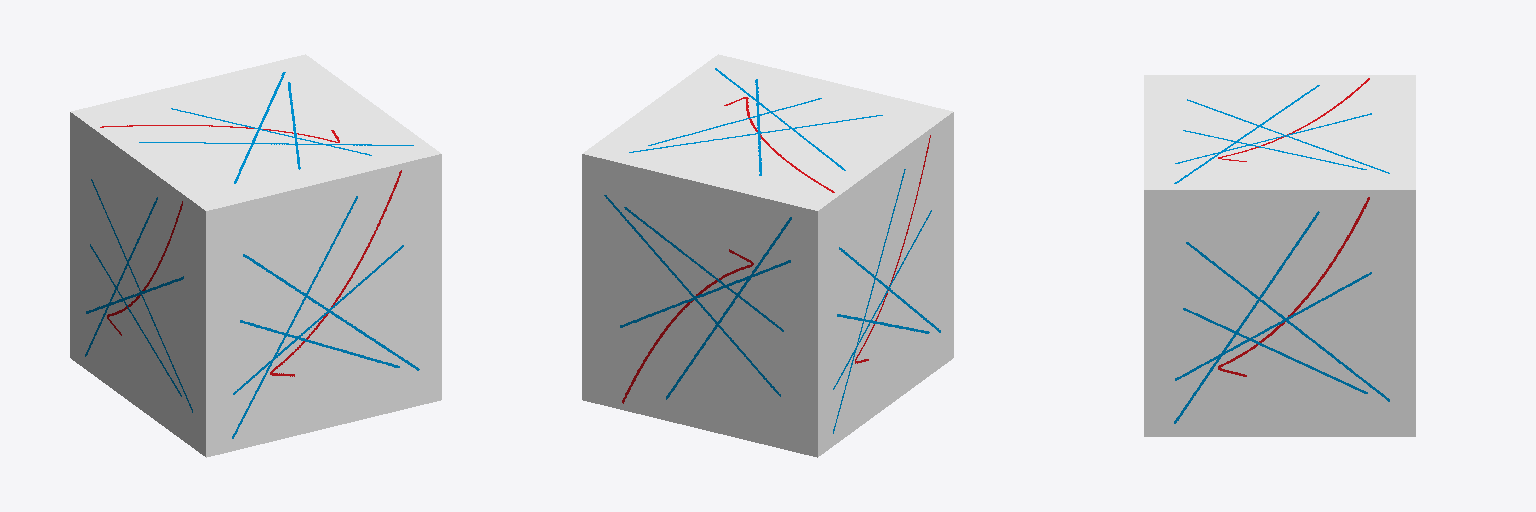
3 renders of one model, left to right at view 1: azimuth 30°, elevation 25°; view 2: azimuth 150°, elevation 25°; view 3: azimuth 270°, elevation 25°, orthographic.
Parts seen in each view (by area): view 1: Cube; view 2: Cube; view 3: Cube.
Boxes of the visible parts, box(x1,y1,x2,y2) form: Cube: box(70, 54, 441, 457); Cube: box(582, 54, 953, 457); Cube: box(1144, 75, 1415, 436).
Size of the model in its own units: 2 by 2 by 2.
Materials: 1 (1 with a texture image).